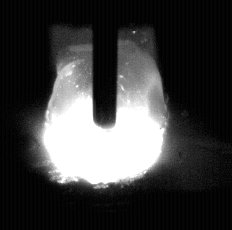arame: (94, 0, 117, 128)
poca: (42, 0, 164, 230)
